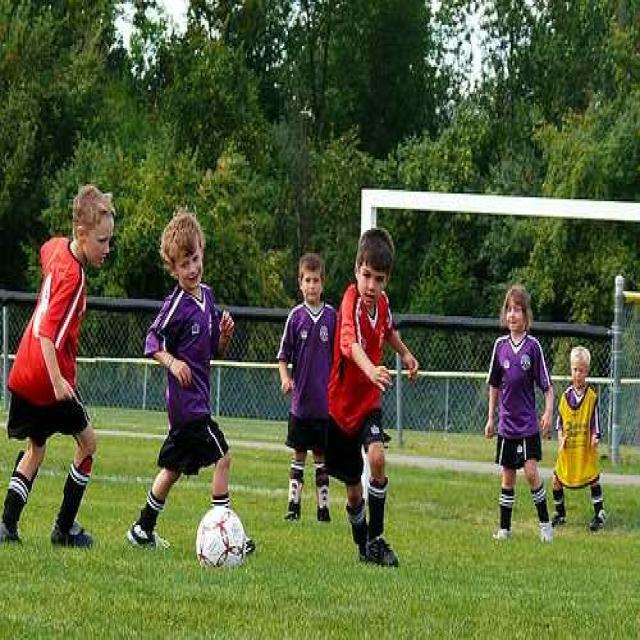ball: (197, 505, 246, 575)
